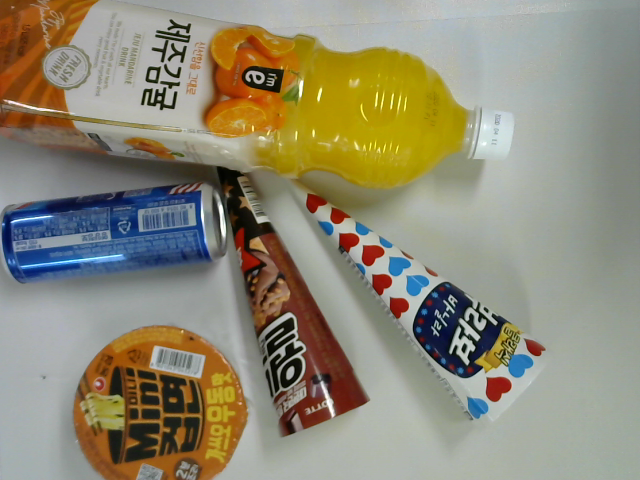Bravo_Cone_(Banila)_CVS: (285, 177, 553, 428)
Jeju_Tangerine_1.5L: (1, 1, 518, 189)
Pepsi_Cola_Can_250ml: (5, 184, 229, 286)
Udongmini: (71, 321, 249, 480)
World_Cone_Choco: (220, 161, 372, 441)
